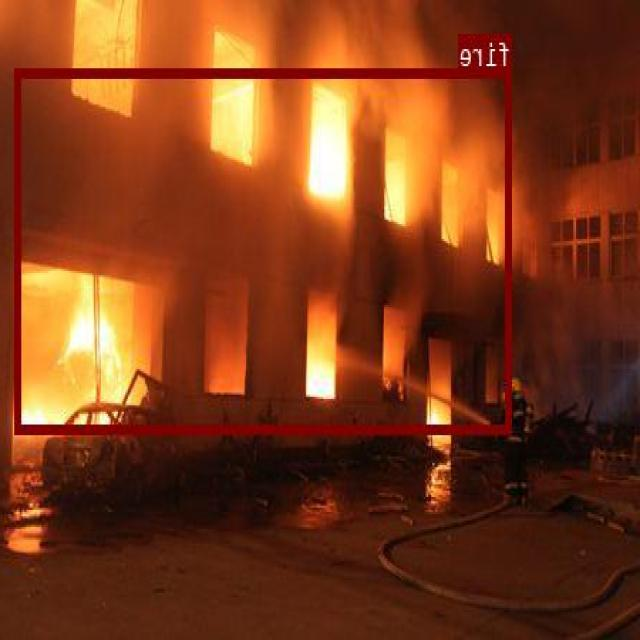fire: (16, 68, 513, 432)
